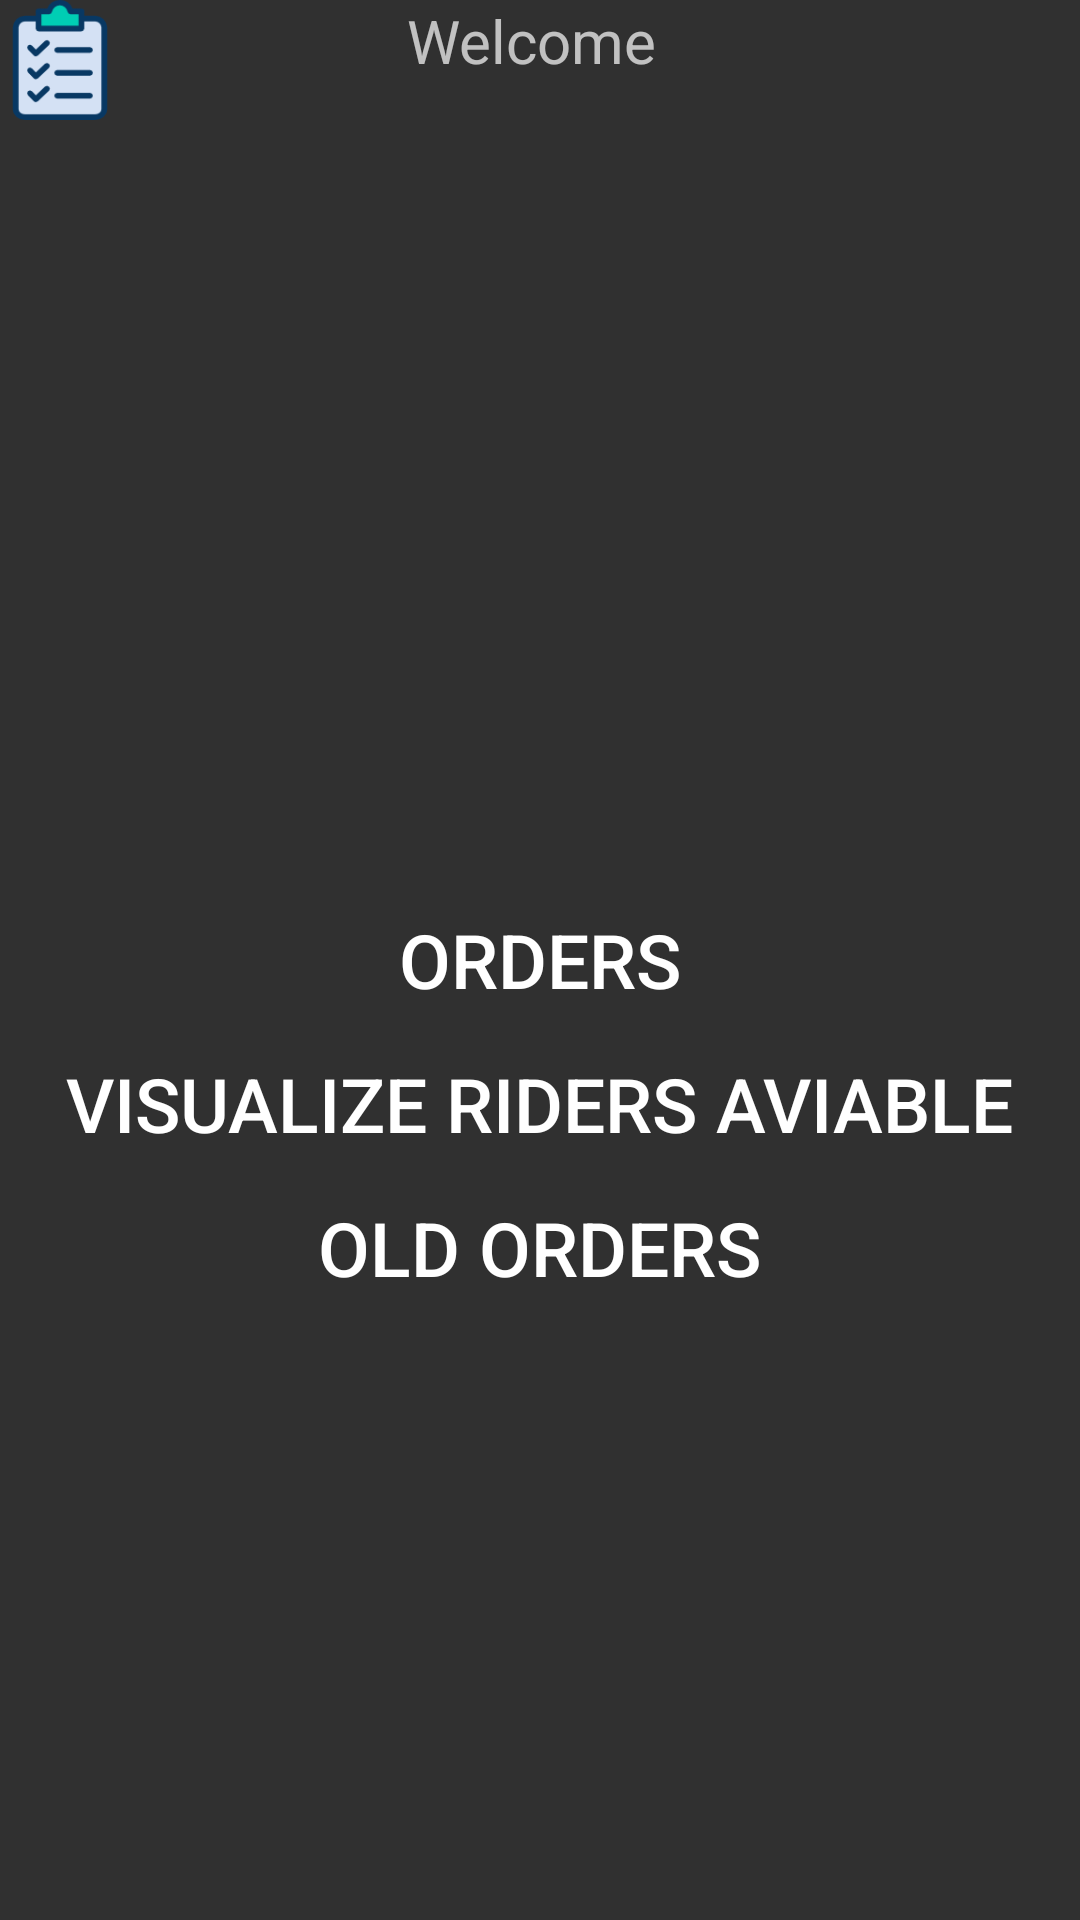

Point at icon controls on the screen. Image size 1080×1920, points as [x,y].
prod lis: [60,60]
